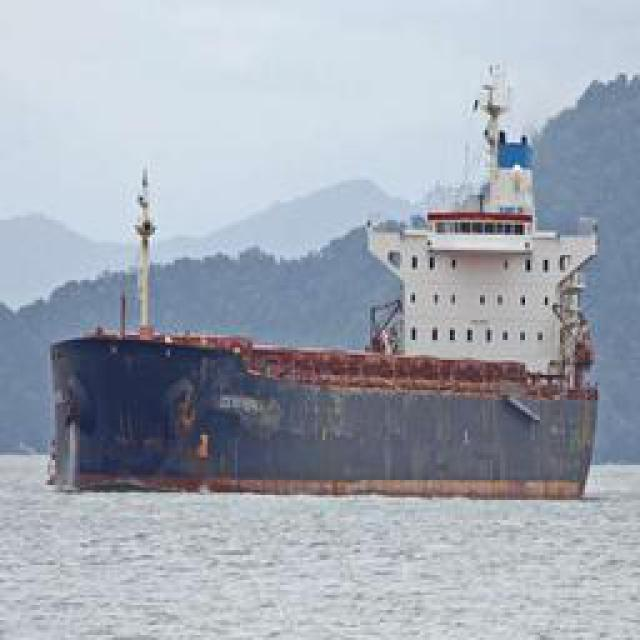Ship: (50, 45, 598, 498)
